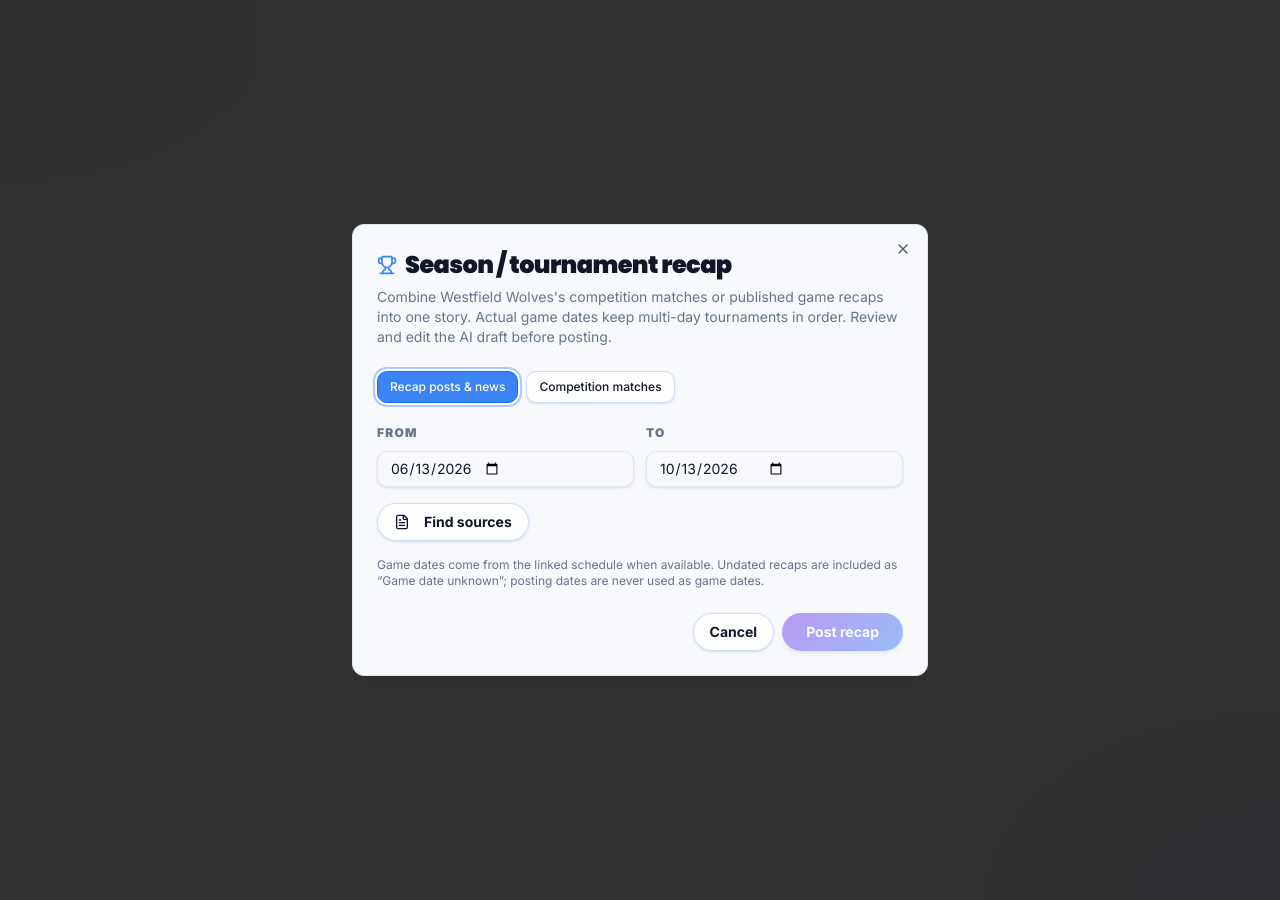
Test: SeasonRecapDialog news coverage › selects matching news coverage and permits a news-only draft
This screenshot has width=1280, height=900.
Click the button with test id "button-season-recap-find-recaps" at (453, 522), box [377,503,529,541]
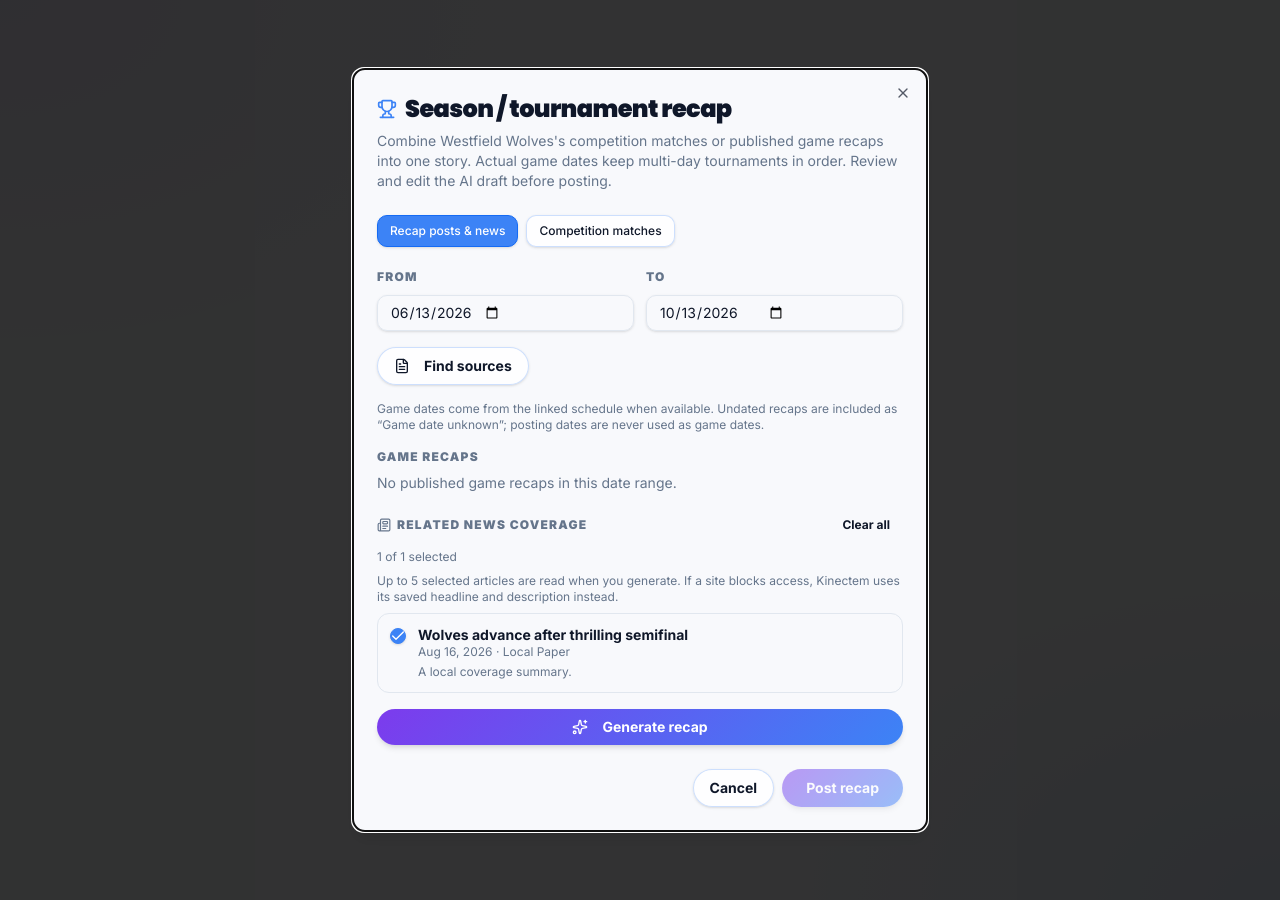
Now the text "Related news coverage" is shown, box [377,517,587,533]
Now the label with test id "row-season-news-news-1" is shown, box [390,626,688,679]
Now the text "No published game recaps in this date range." is shown, box [377,474,677,491]
Click the button with test id "button-season-recap-generate" at (640, 727), box [377,709,903,745]
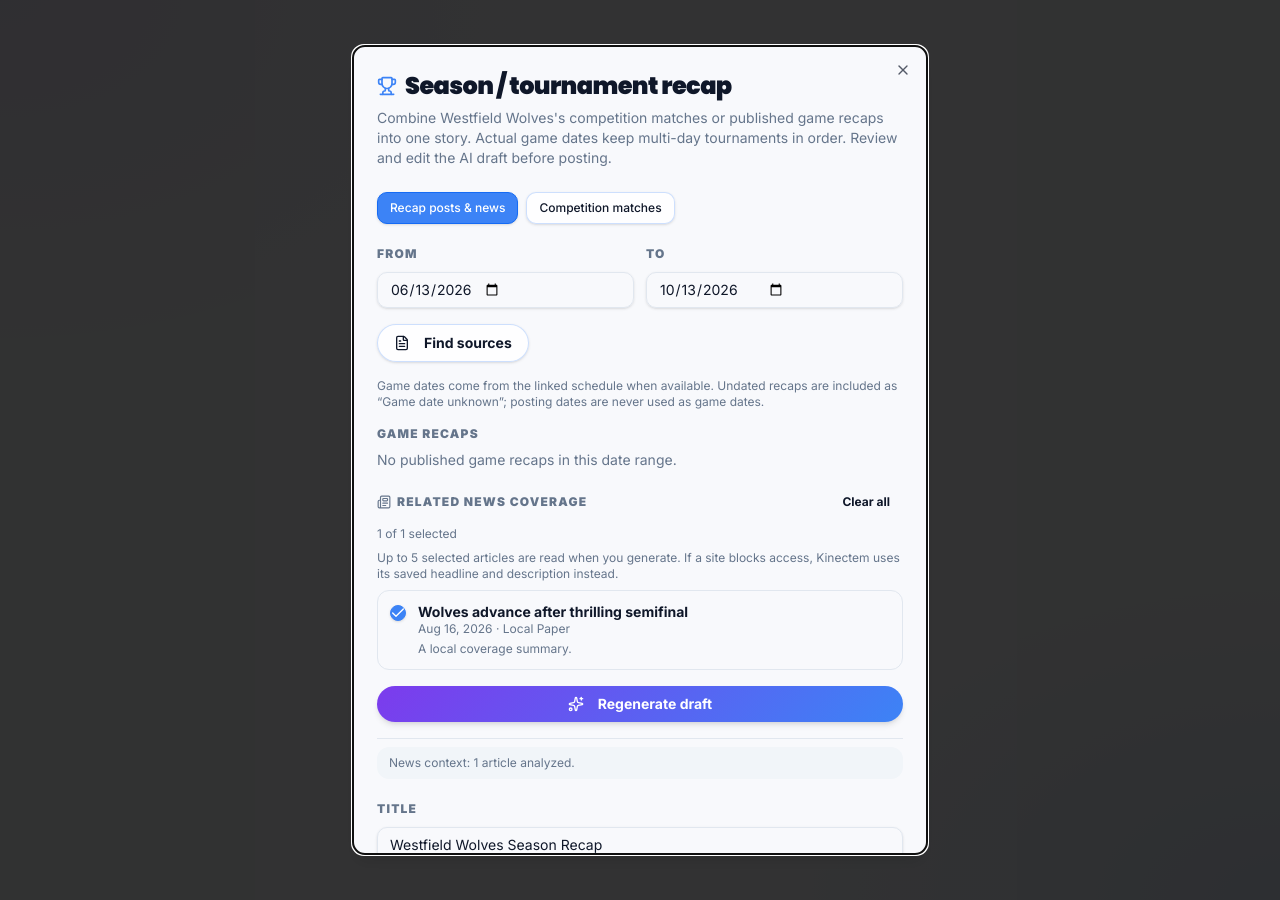
Now the text with test id "text-season-recap-news-context-status" shows "1 article analyzed", box [389,754,575,770]
